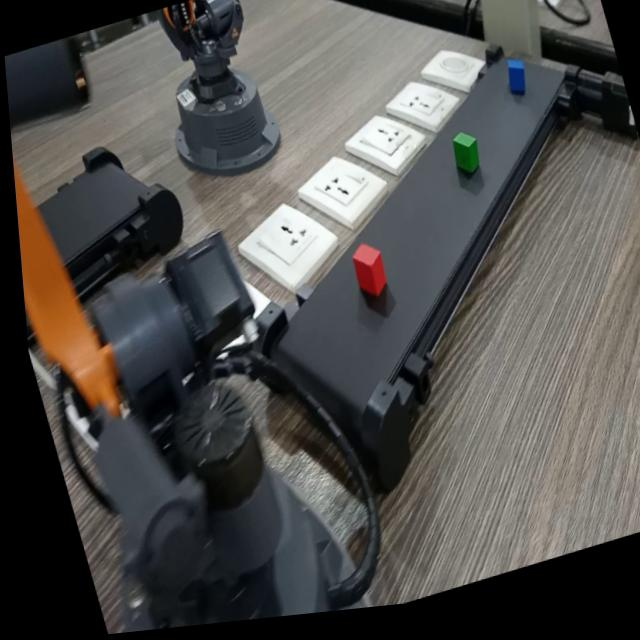cube: (334, 234, 394, 312), (436, 127, 486, 190), (498, 60, 531, 114)
